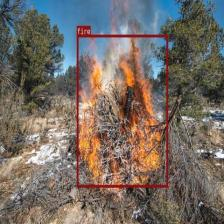fire: (76, 35, 168, 187)
